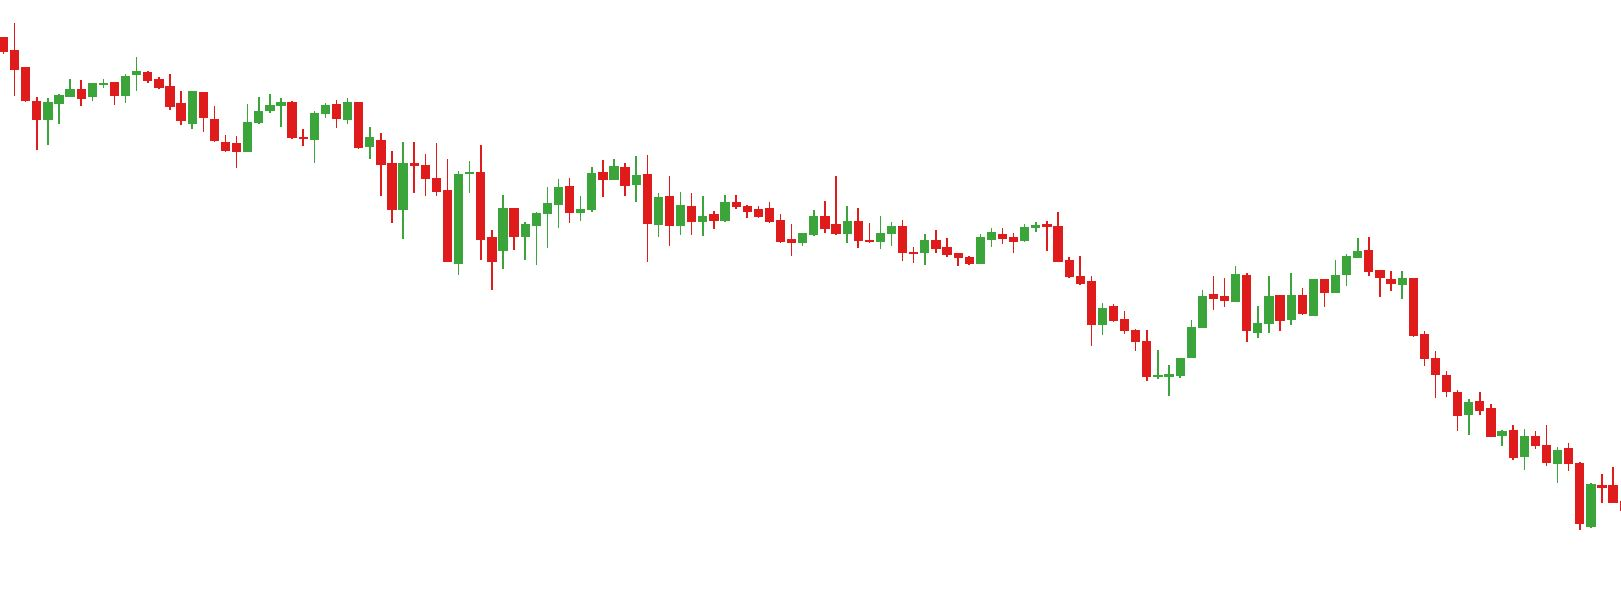sell: (731, 172, 843, 246)
